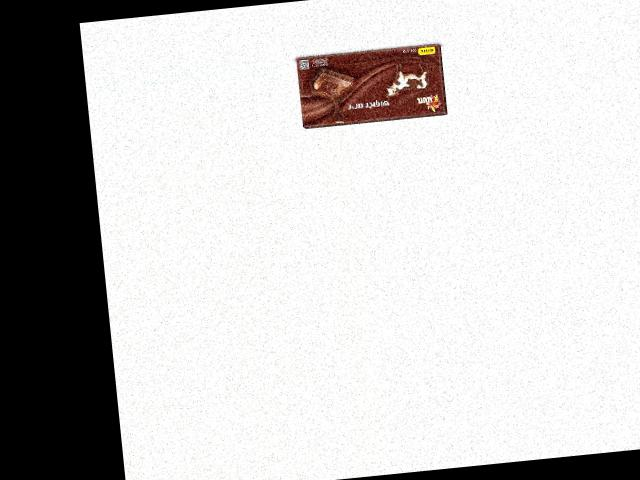chocolate: (297, 42, 451, 130)
